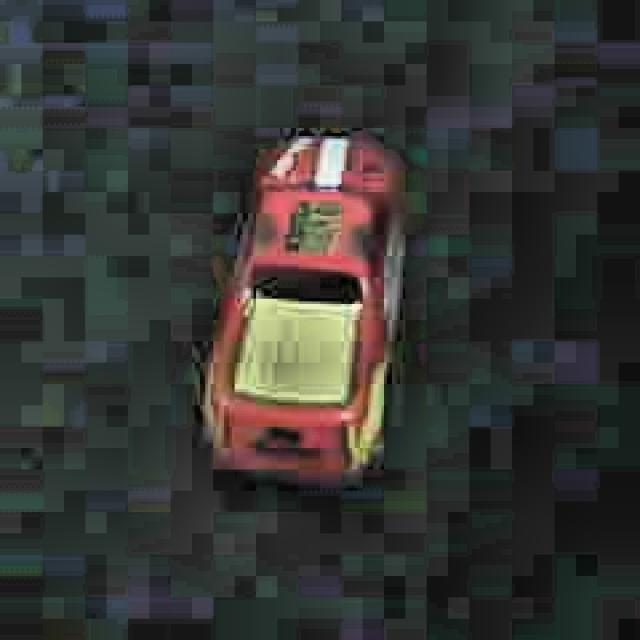car: (191, 130, 415, 488)
